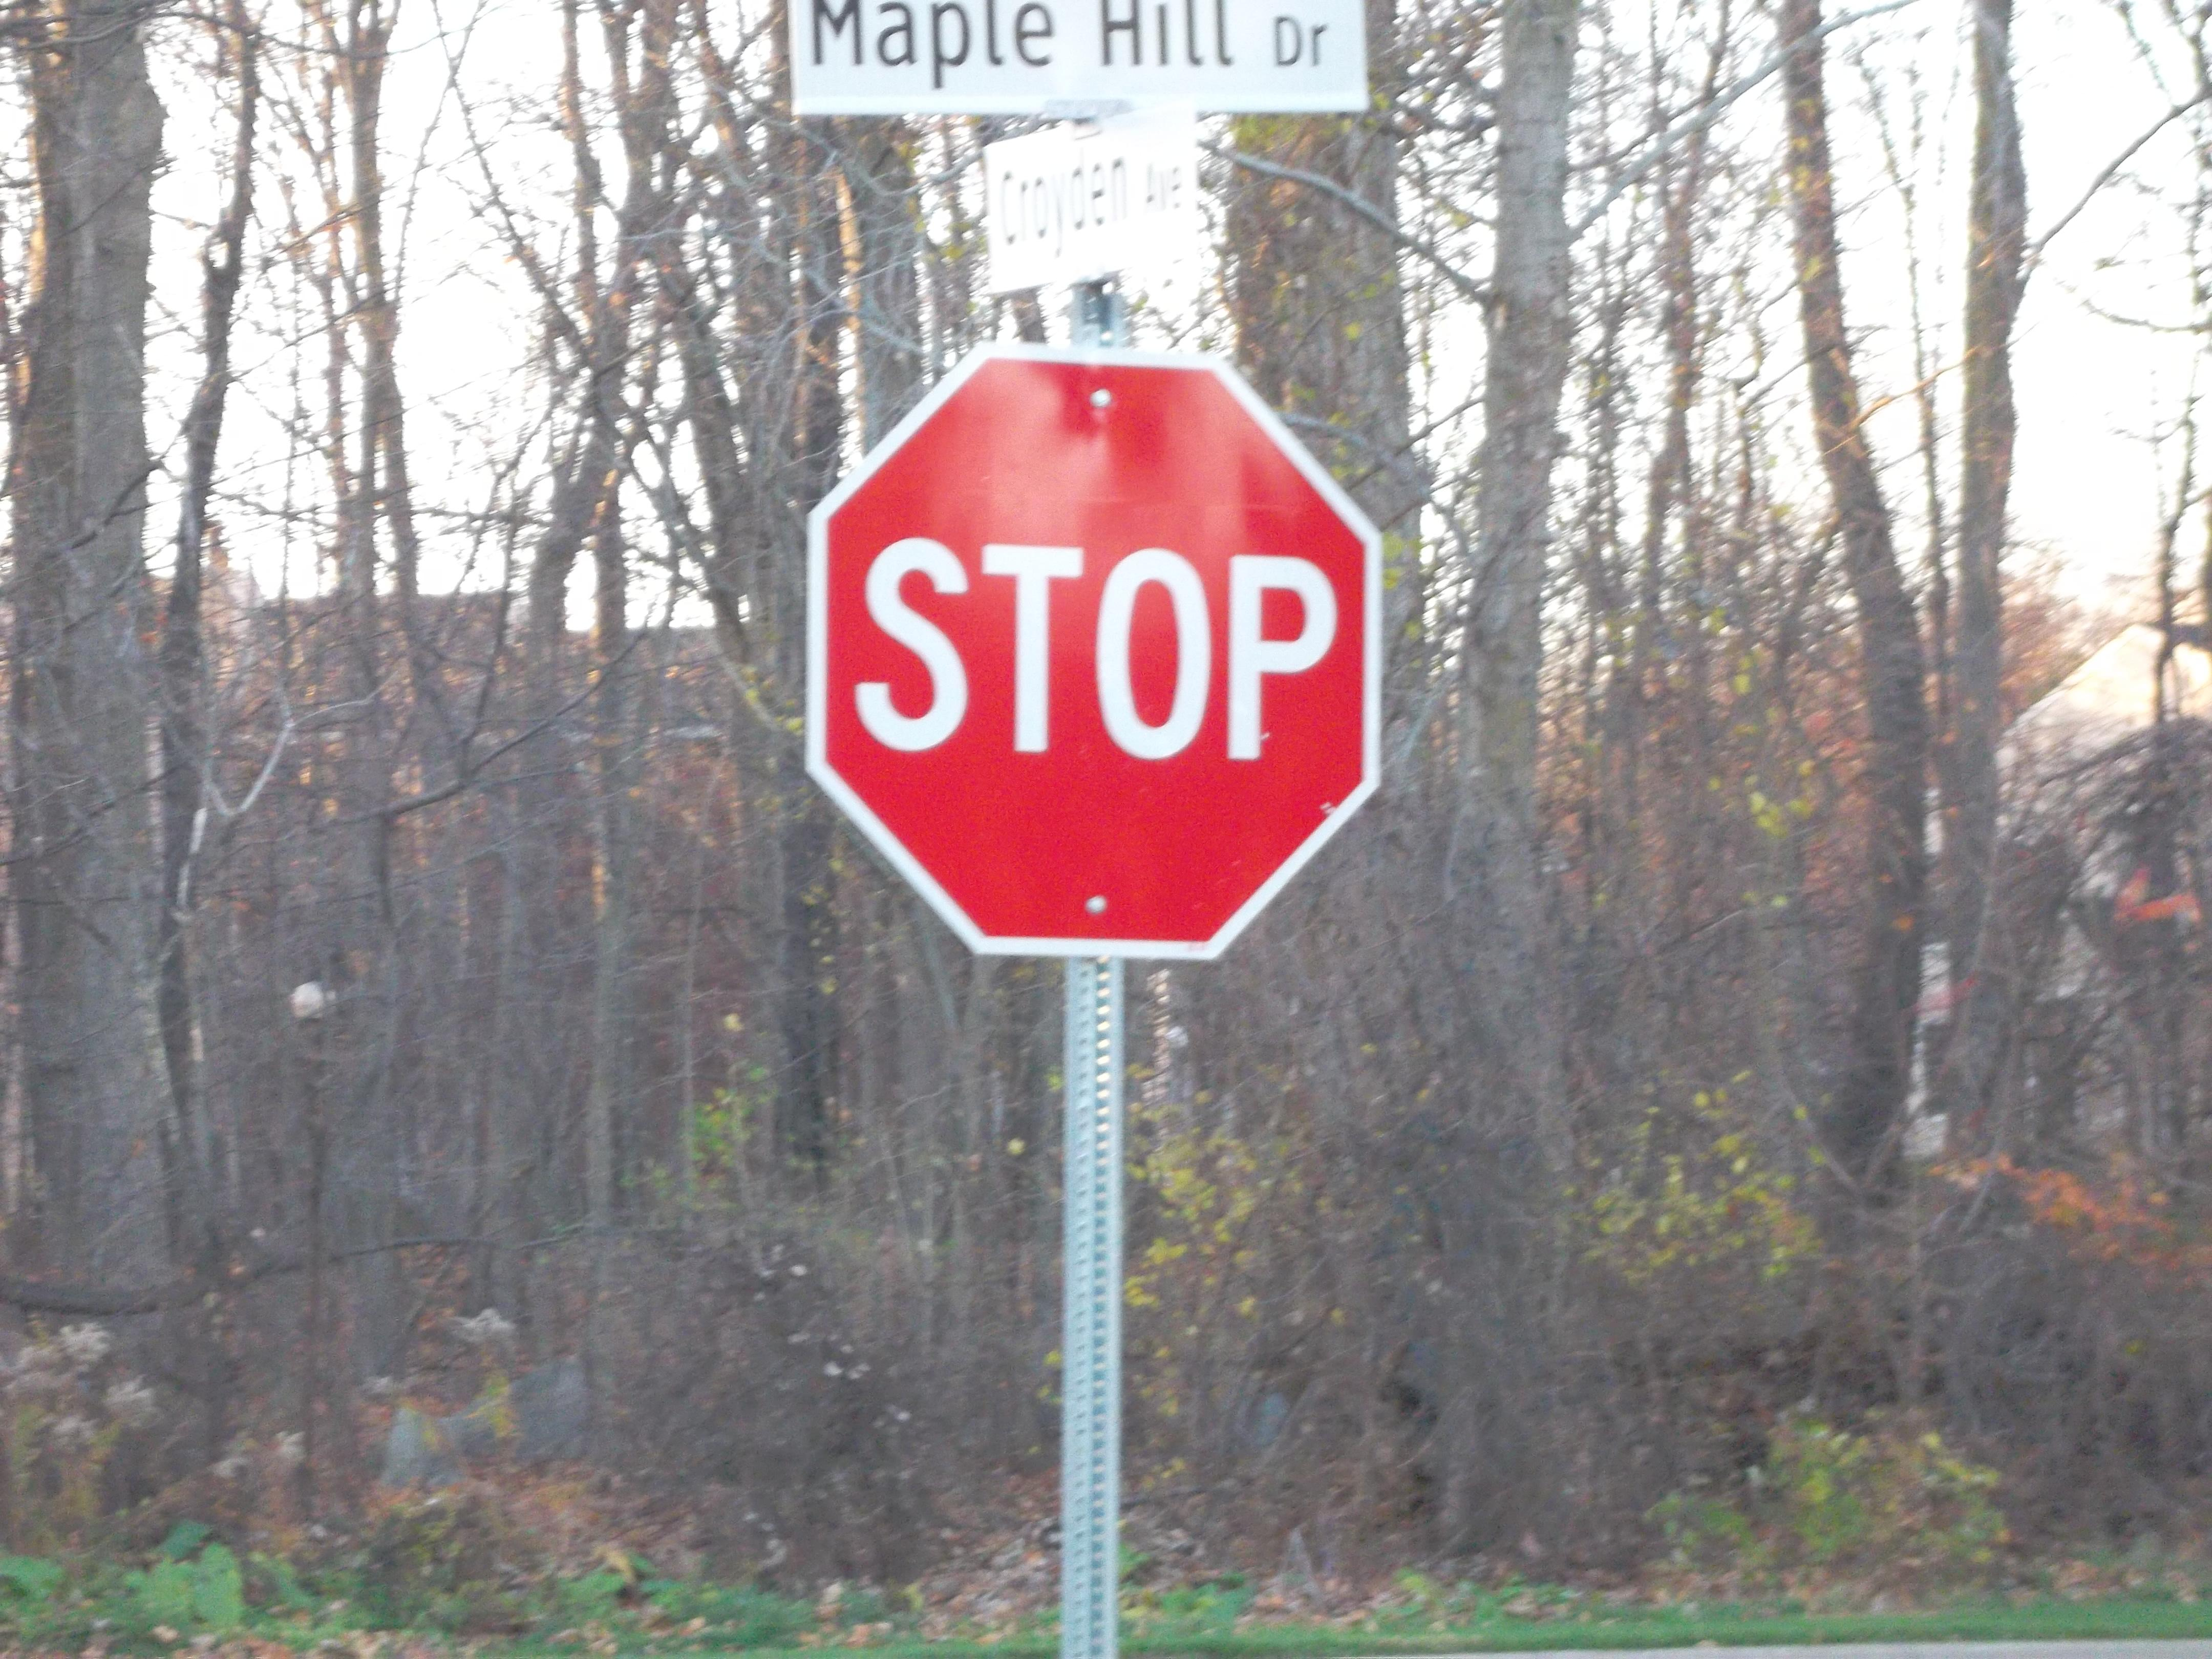stop: (798, 331, 1399, 974)
